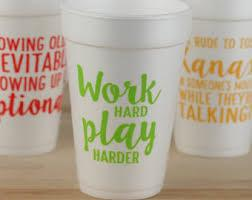Plastic cup: (2, 1, 252, 200)
